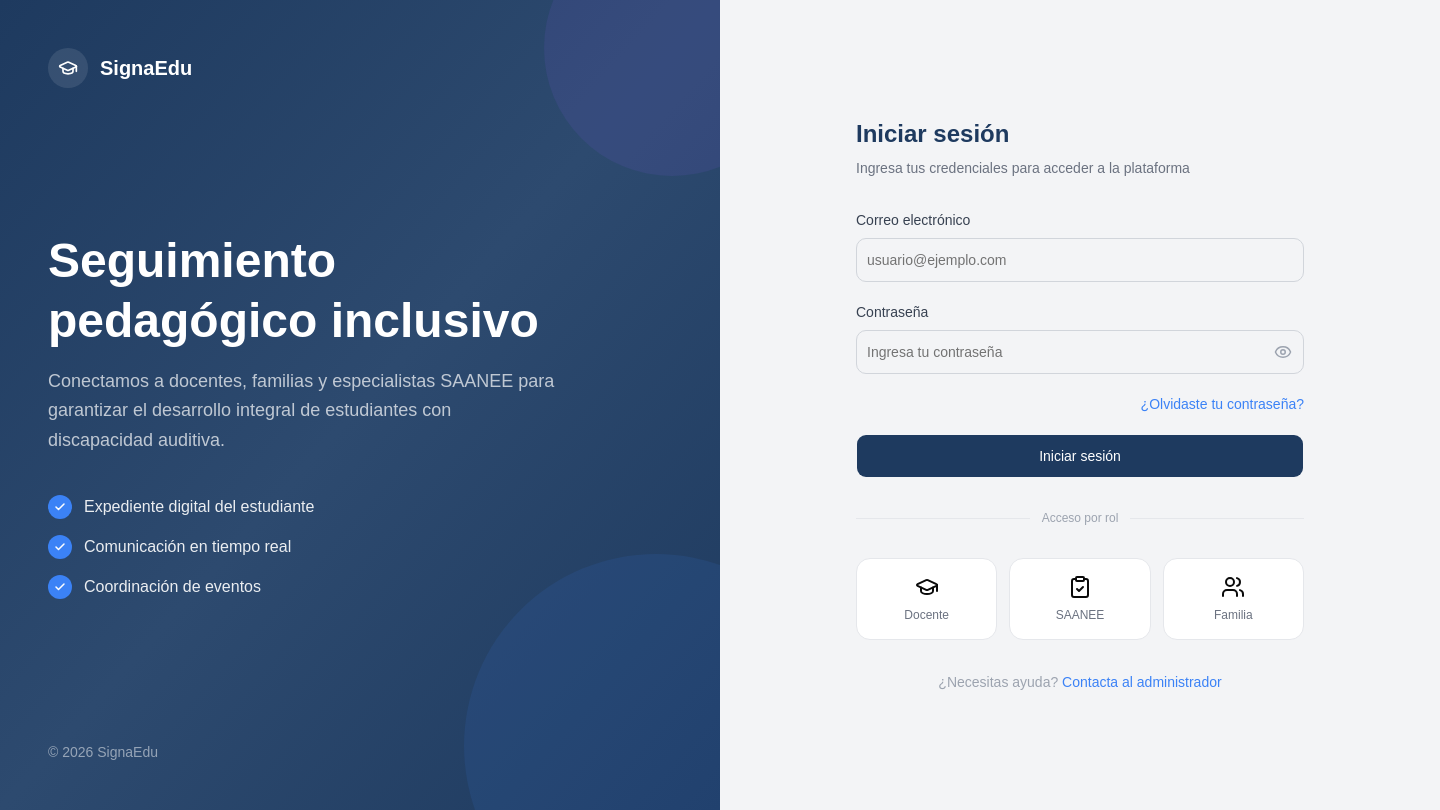
Test: Flujo de login › login fallido muestra mensaje de error
Type "admin@test.com" into the field labelled "Correo electrónico" at (1080, 260), box [856,238,1304,282]
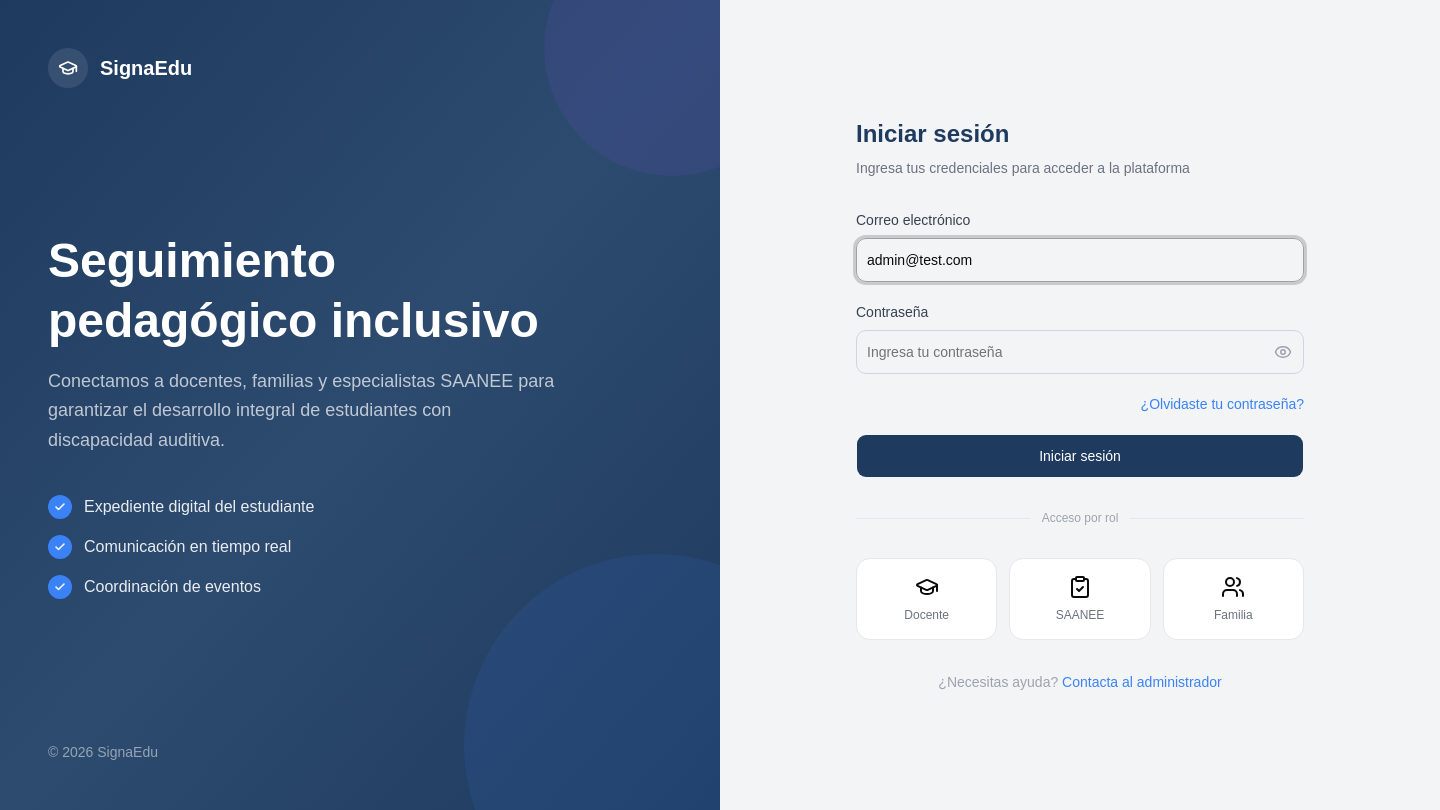
Type "wrongpass" into the password field labelled "Contraseña" at (1080, 352), box [856,330,1304,374]
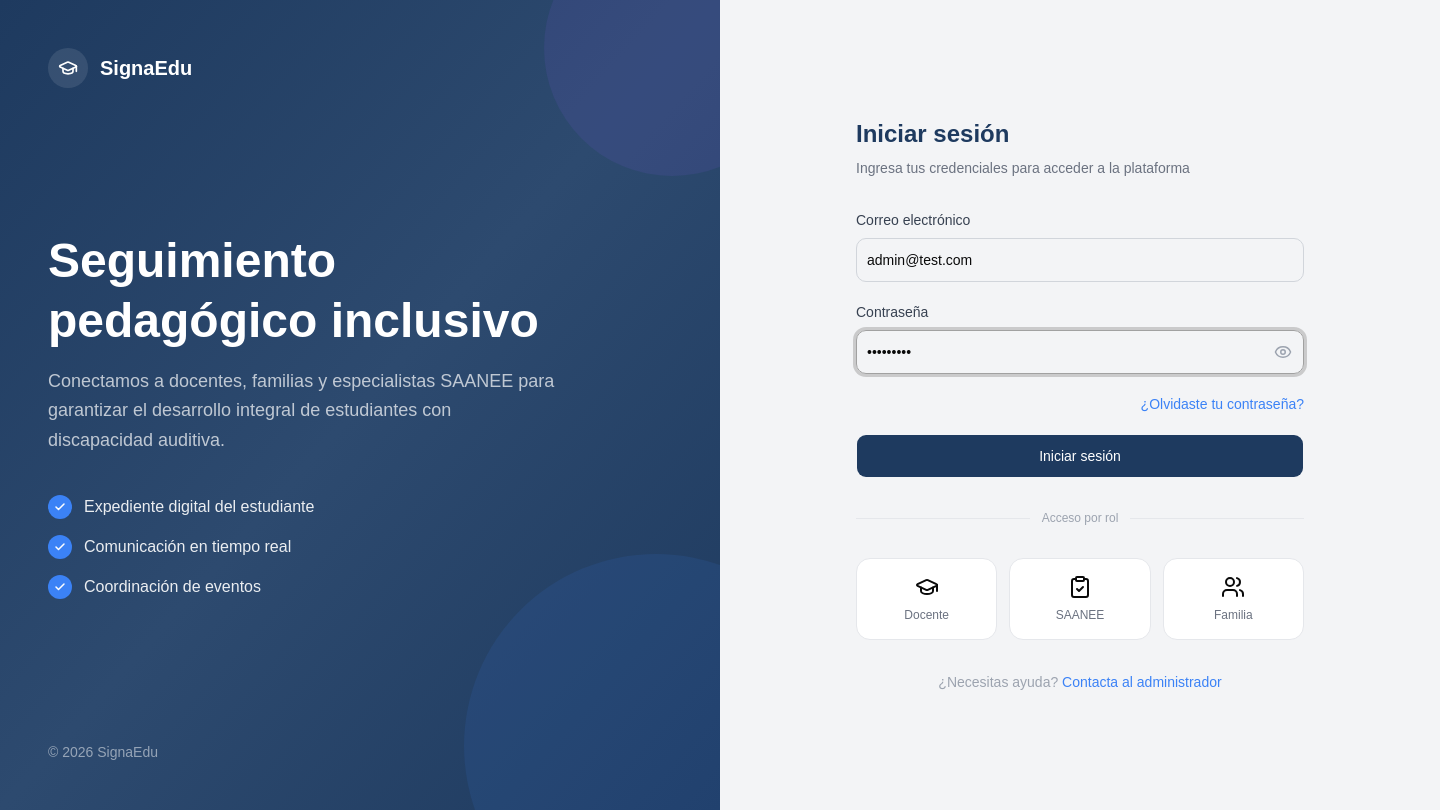
Click the button "Iniciar sesión" at (1080, 456), box [856,434,1304,478]
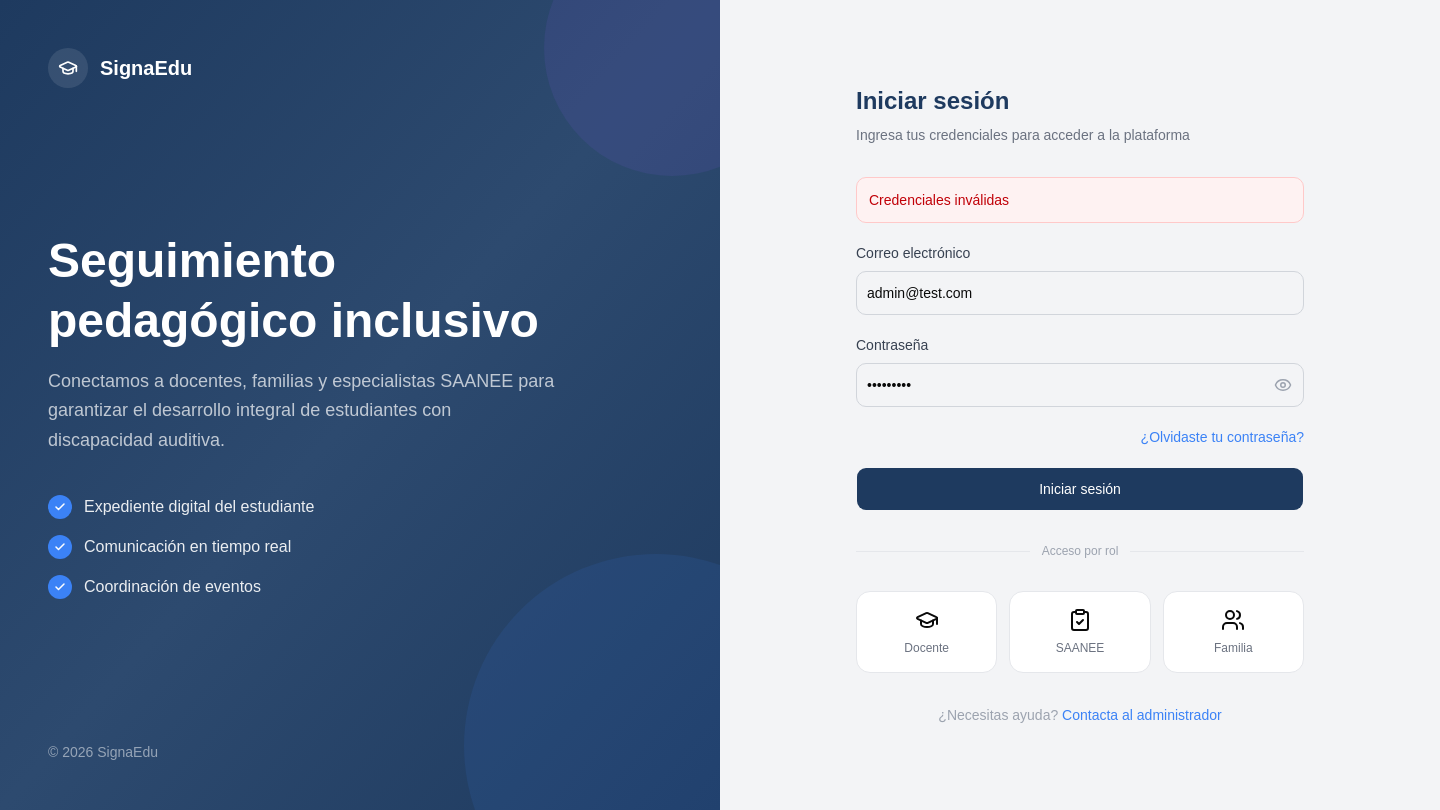
Expected: the text "Credenciales inválidas" is shown, [856,177,1304,223]
